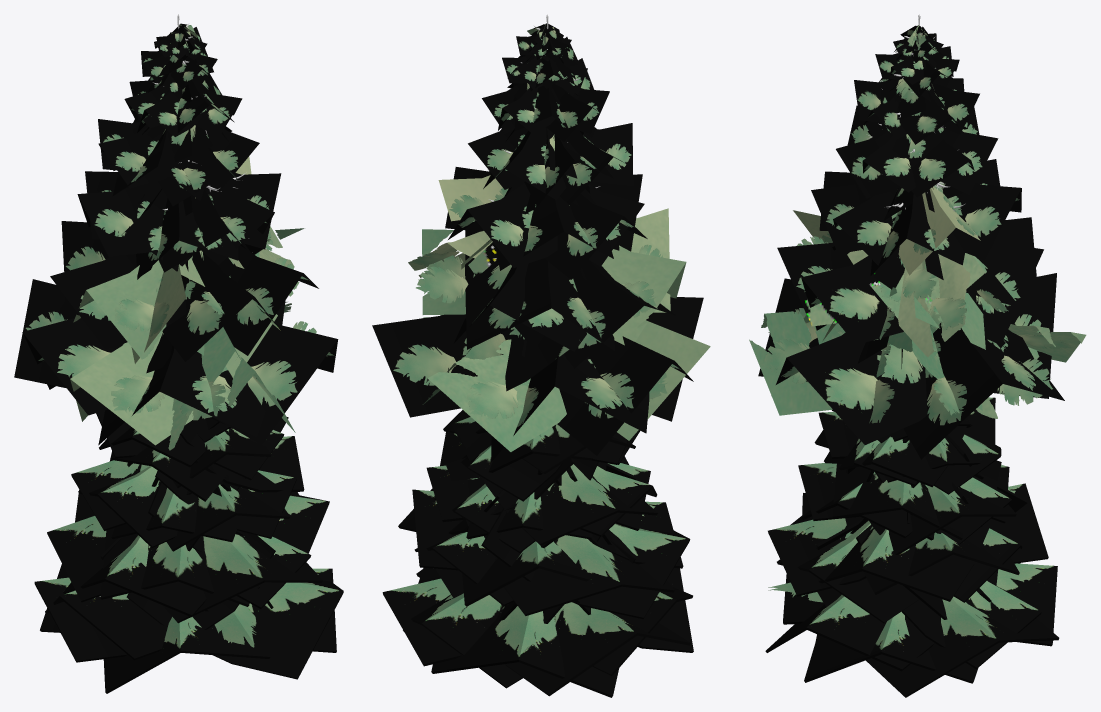
Rendered from heroo.fbx.
3 views of the same model, side by side, from view 1: azimuth 30°, elevation 25°; view 2: azimuth 150°, elevation 25°; view 3: azimuth 270°, elevation 25° (orthographic). The views are drawn at different scales.
Visible parts, largest first — view 1: Leaves.001, Untitled_Artwork (86).001, Leaves, Untitled_Artwork (86); view 2: Leaves.001, Untitled_Artwork (86).001, Leaves; view 3: Leaves.001, Untitled_Artwork (86).001, Leaves.
Part boxes in pixels (<box>): Leaves.001: <box>14,23,338,450</box>; Untitled_Artwork (86).001: <box>34,410,343,693</box>; Leaves: <box>25,25,333,420</box>; Untitled_Artwork (86): <box>214,604,256,647</box>; Leaves.001: <box>372,23,710,461</box>; Untitled_Artwork (86).001: <box>382,410,693,697</box>; Leaves: <box>393,27,680,426</box>; Leaves.001: <box>749,25,1086,459</box>; Untitled_Artwork (86).001: <box>765,397,1059,697</box>; Leaves: <box>761,30,1073,425</box>.
Size of the model in its own units: 3496 by 7189 by 3597.
